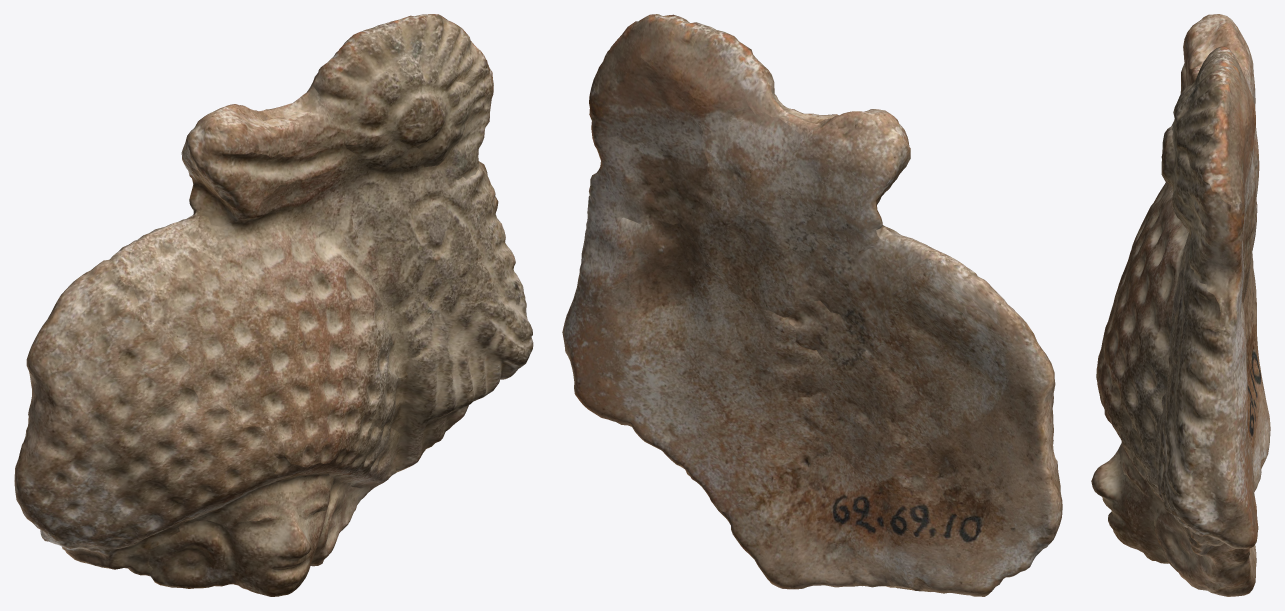
Rendered from toltek-transformed.glb.
The picture shows the model from 3 angles, left to right: view 1: azimuth 30°, elevation 25°; view 2: azimuth 150°, elevation 25°; view 3: azimuth 270°, elevation 25°; orthographic projection. The views are drawn at different scales.
Visible parts, largest first — view 1: 1962.69.0010 (toltek-figur); view 2: 1962.69.0010 (toltek-figur); view 3: 1962.69.0010 (toltek-figur).
Boxes of the visible parts, bbox=[...] form: 1962.69.0010 (toltek-figur): bbox=[14, 14, 533, 596]; 1962.69.0010 (toltek-figur): bbox=[562, 14, 1062, 596]; 1962.69.0010 (toltek-figur): bbox=[1091, 14, 1270, 596].
Bounding box in the file's own units: 0.6031 × 0.6097 × 0.1701.
1 material, 1 textured.
